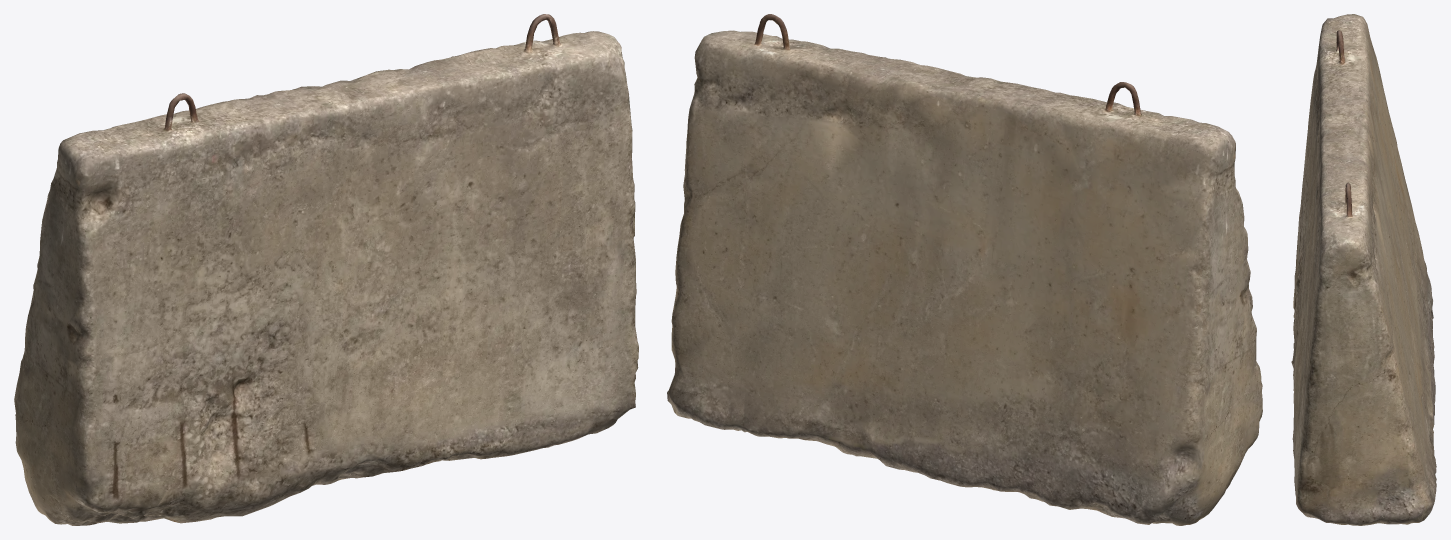
Rendered from road_barrier.glb.
3 renders of one model, left to right at view 1: azimuth 30°, elevation 25°; view 2: azimuth 150°, elevation 25°; view 3: azimuth 270°, elevation 25°, orthographic. The views are drawn at different scales.
Parts seen in each view (by area): view 1: concrete_road_barrier_02; view 2: concrete_road_barrier_02; view 3: concrete_road_barrier_02.
Part boxes in pixels (box(x1,y1,x2,y2)): concrete_road_barrier_02: box(14, 14, 638, 525); concrete_road_barrier_02: box(667, 14, 1262, 525); concrete_road_barrier_02: box(1291, 14, 1436, 525).
Bounding box in the file's own units: 1.56 × 1.11 × 0.4423.
Materials: 1 (1 with a texture image).
